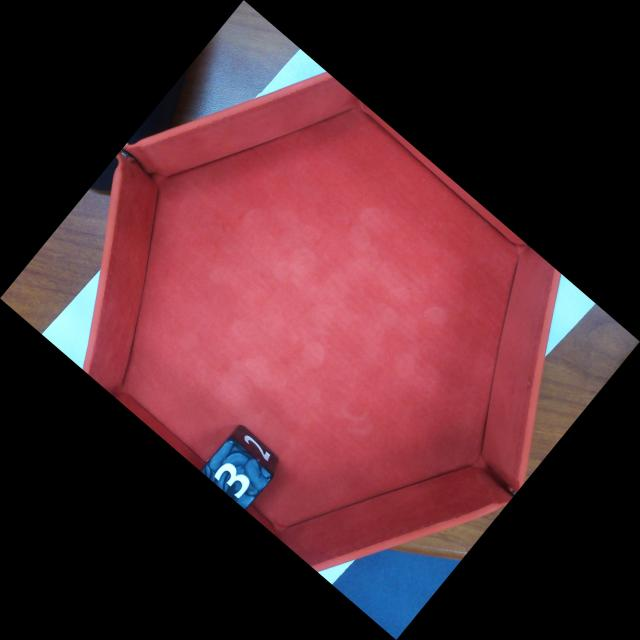dice: (201, 437, 275, 510)
